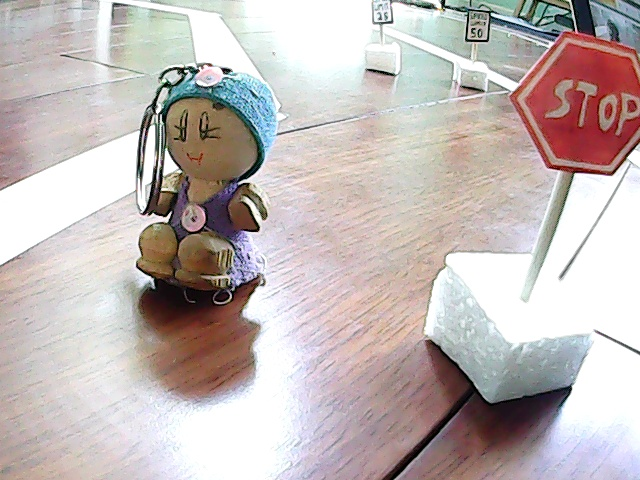pedestrain: (136, 57, 284, 322)
speed_25: (361, 1, 407, 78)
speed_50: (448, 7, 501, 96)
stop: (461, 24, 636, 404)
